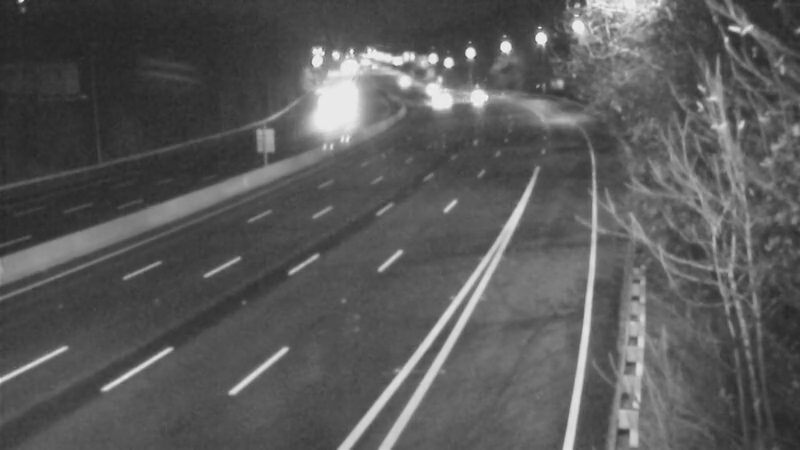vehicle: (374, 56, 424, 106), (407, 65, 457, 115), (453, 67, 503, 117), (412, 74, 462, 124), (304, 88, 354, 138)
